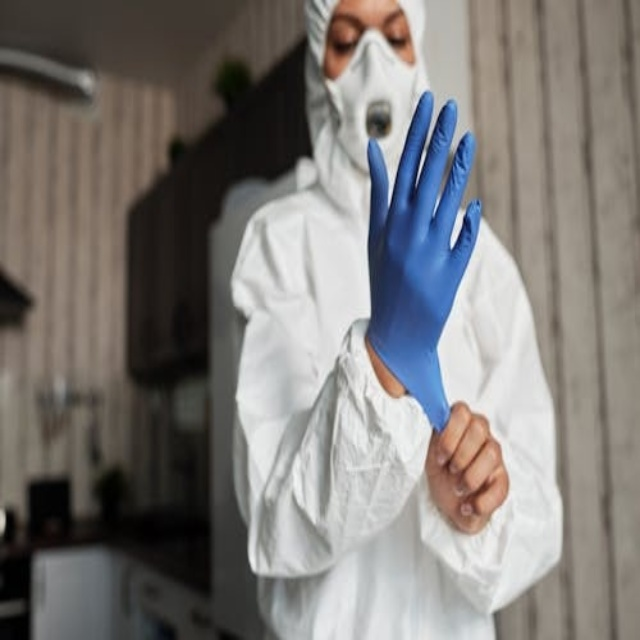Guantes: (365, 92, 482, 436)
Mascara: (314, 20, 425, 184)
Sin_gafas: (326, 11, 408, 63)
Sin_guantes: (423, 400, 509, 537)
